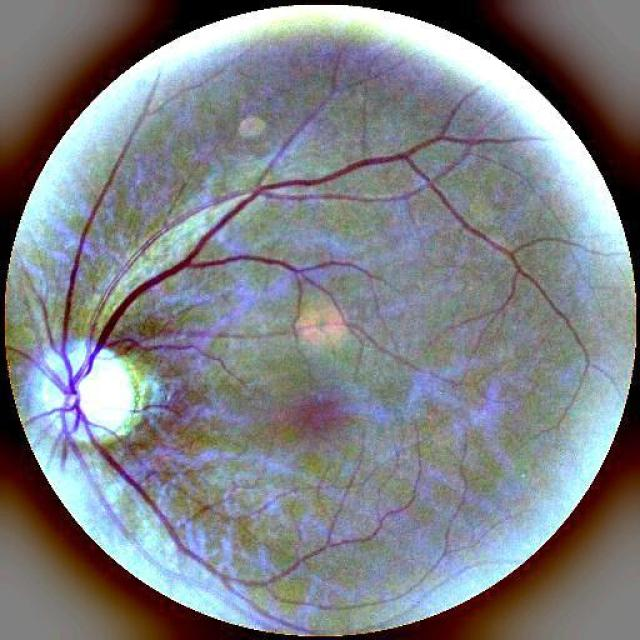Macula: (288, 382, 374, 450)
Nerves: (11, 82, 584, 596), (278, 499, 412, 576)
Optic Disk: (25, 340, 162, 441)
